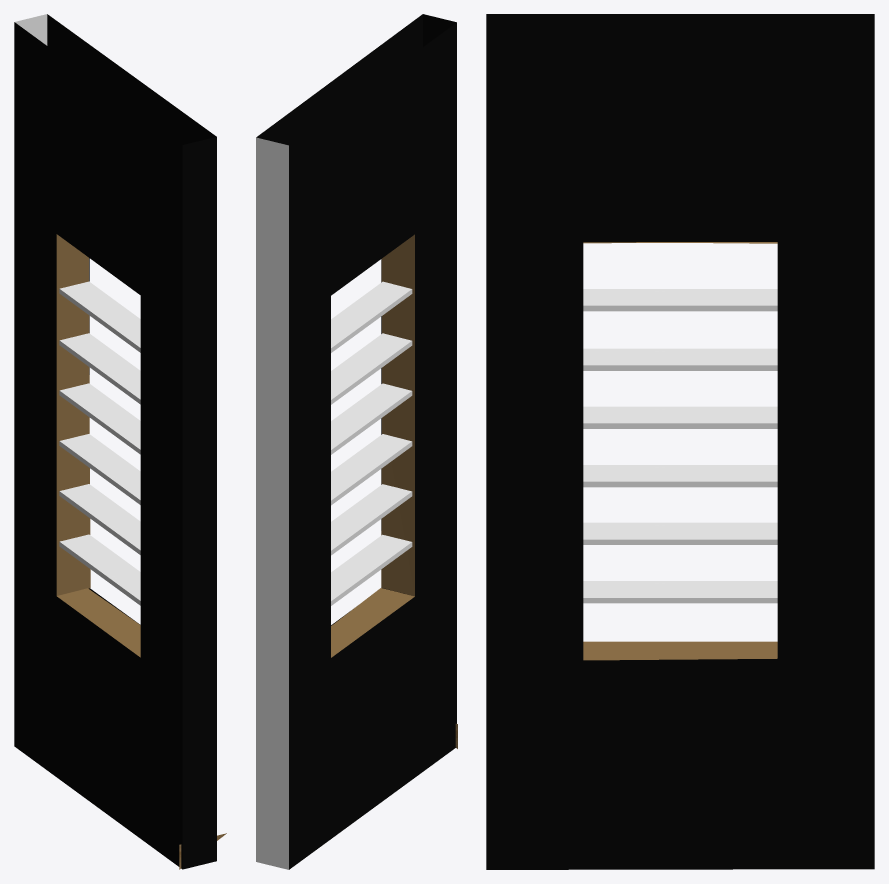
File: ParedDerS2.obj
3 renders of one model, left to right at view 1: azimuth 30°, elevation 25°; view 2: azimuth 150°, elevation 25°; view 3: azimuth 270°, elevation 25°, orthographic. The views are drawn at different scales.
Parts seen in each view (by area): view 1: ParedDerS2; view 2: ParedDerS2; view 3: ParedDerS2.
Part boxes in pixels (<box>): ParedDerS2: <box>14,14,226,869</box>; ParedDerS2: <box>256,14,457,869</box>; ParedDerS2: <box>486,14,874,869</box>.
Size of the model in its own units: 1 by 14.36 by 6.04.
Materials: 3 (3 with a texture image).
